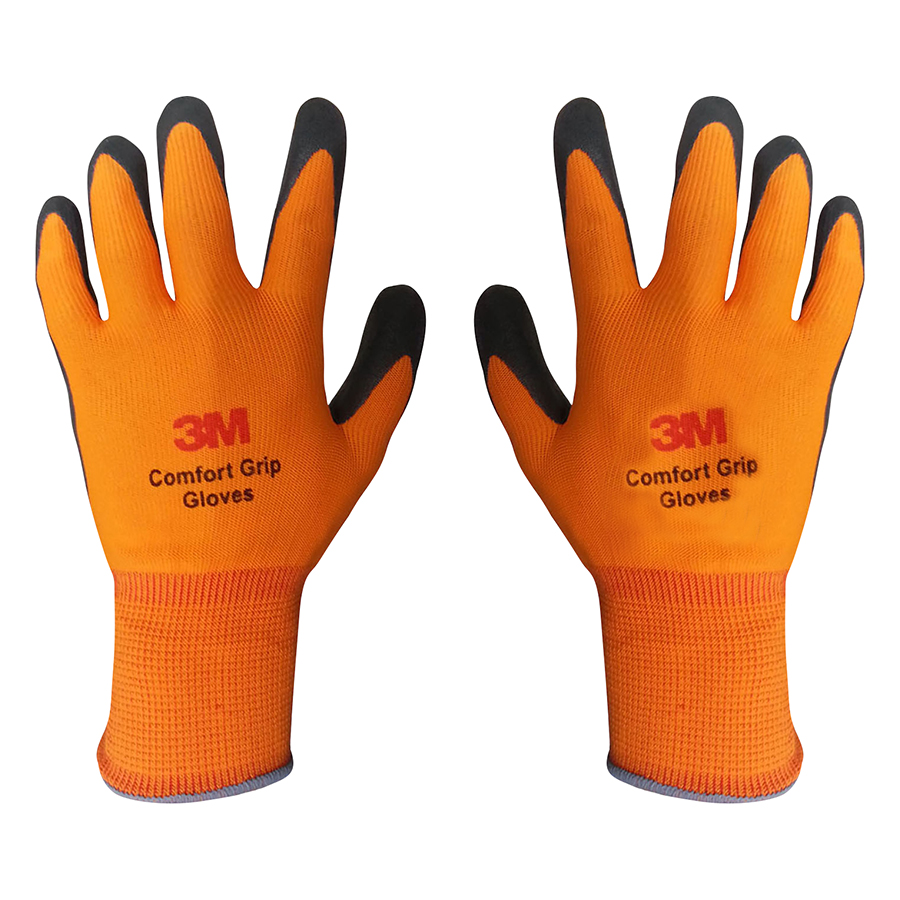3M: (160, 399, 265, 459), (644, 395, 735, 456)
